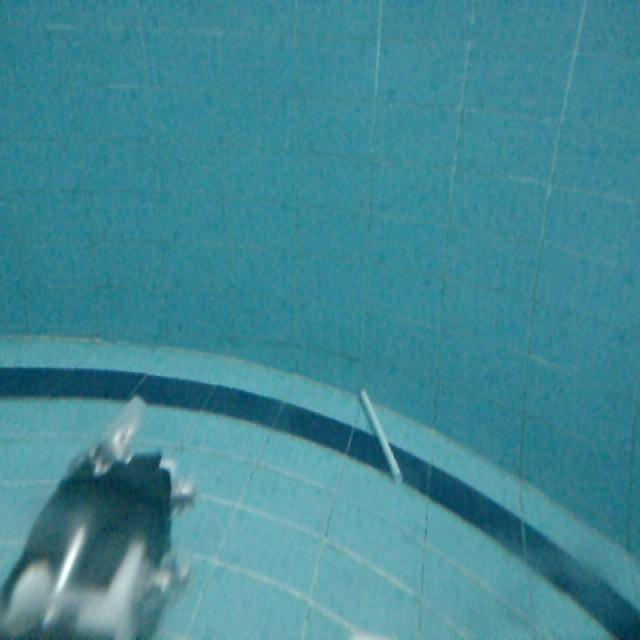Cube: (358, 388, 409, 494)
